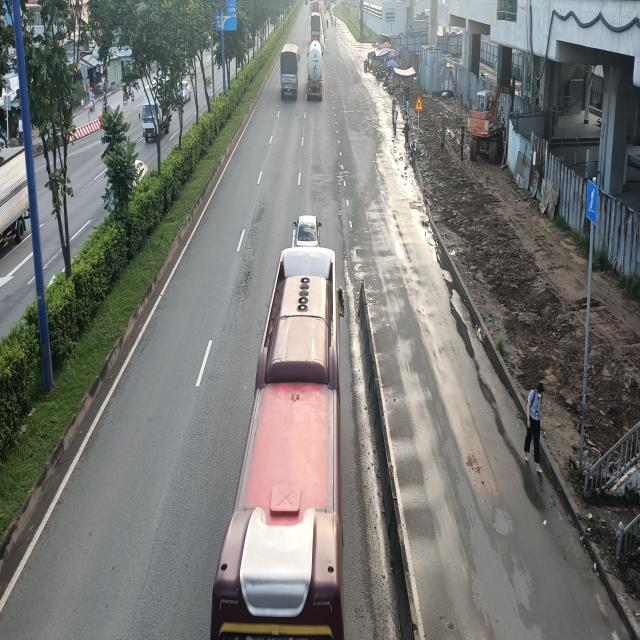coach: (208, 245, 346, 640)
truck: (279, 44, 299, 102), (307, 42, 324, 100)
